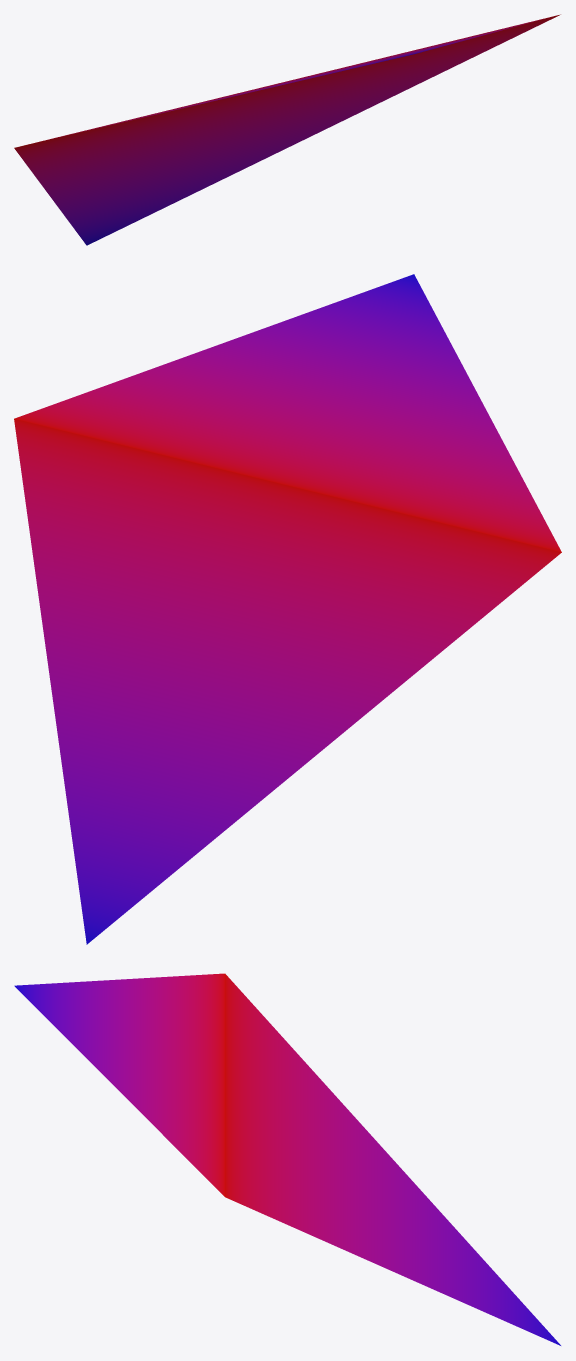
Rendered from border_patch_13.obj.
3 views of the same model, one above another, from view 1: azimuth 30°, elevation 25°; view 2: azimuth 150°, elevation 25°; view 3: azimuth 270°, elevation 25° (orthographic). The views are drawn at different scales.
Size of the model in its own units: 0.9191 by 0.691 by 0.9511.
